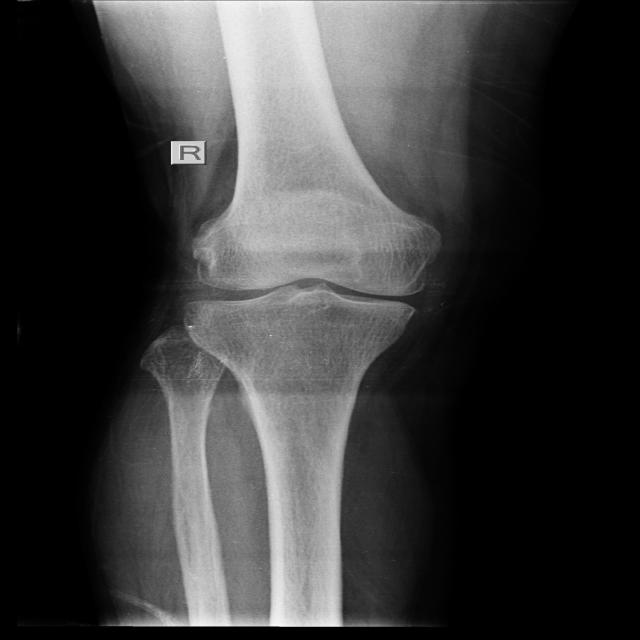osteo: (179, 198, 437, 348)
